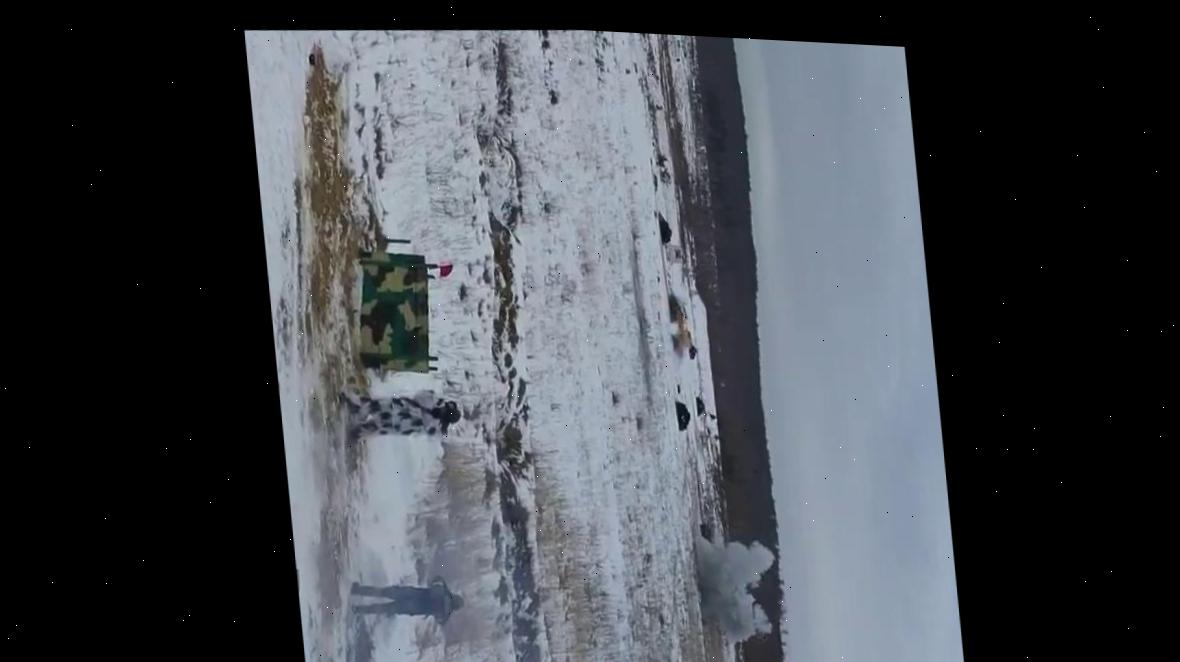person: (338, 380, 464, 452), (346, 568, 469, 633)
